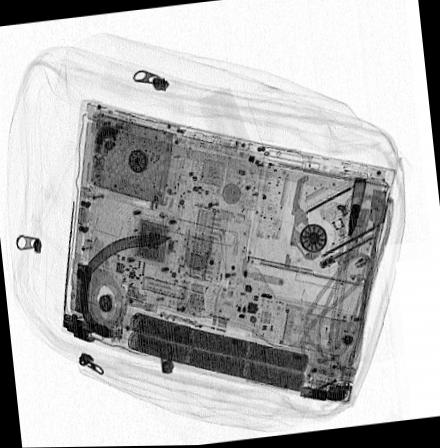Bullet: (346, 178, 368, 240)
